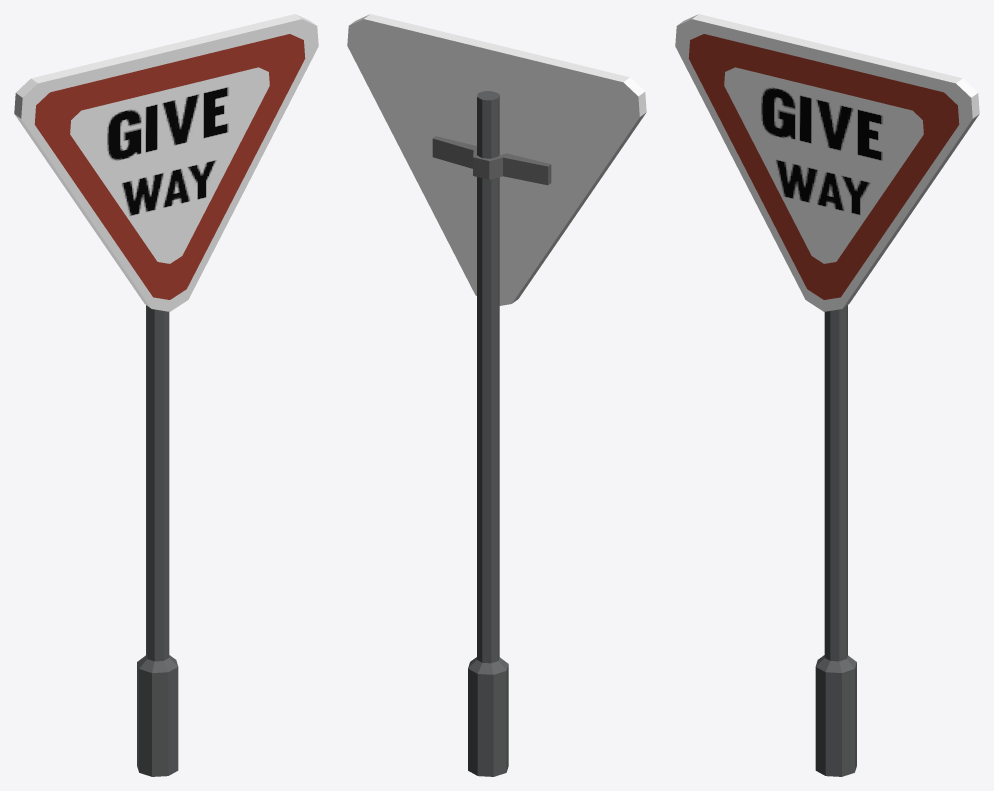
The model's file is SM_Prop_Sign_GiveWay_03.obj.
3 renders of one model, left to right at view 1: azimuth 30°, elevation 25°; view 2: azimuth 150°, elevation 25°; view 3: azimuth 330°, elevation 25°, orthographic.
Visible parts, largest first — view 1: SM_Prop_Sign_GiveWay_03_0; view 2: SM_Prop_Sign_GiveWay_03_0; view 3: SM_Prop_Sign_GiveWay_03_0.
Boxes of the visible parts, left/top/right/bottom form: SM_Prop_Sign_GiveWay_03_0: left=14, top=14, right=318, bottom=776; SM_Prop_Sign_GiveWay_03_0: left=347, top=14, right=646, bottom=776; SM_Prop_Sign_GiveWay_03_0: left=675, top=14, right=979, bottom=776.
Bounding box in the file's own units: 0.9509 × 2.22 × 0.1274.
1 material, 1 textured.
